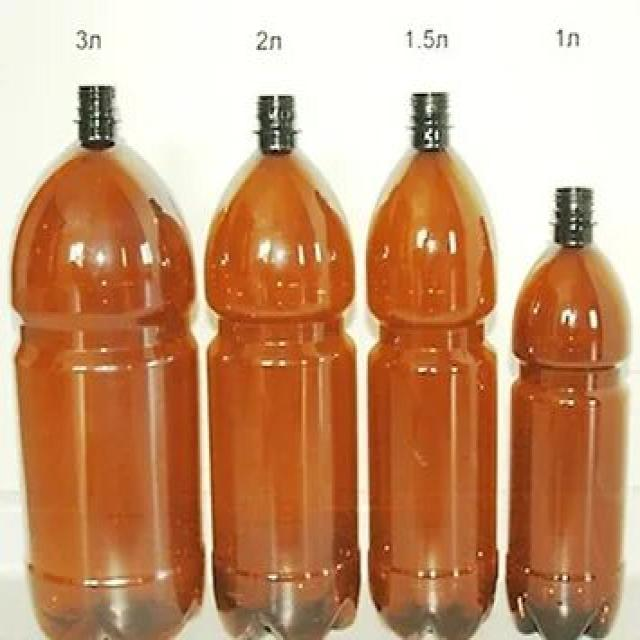brown: (10, 85, 198, 640), (203, 95, 356, 640), (365, 93, 497, 640), (511, 188, 631, 640)
